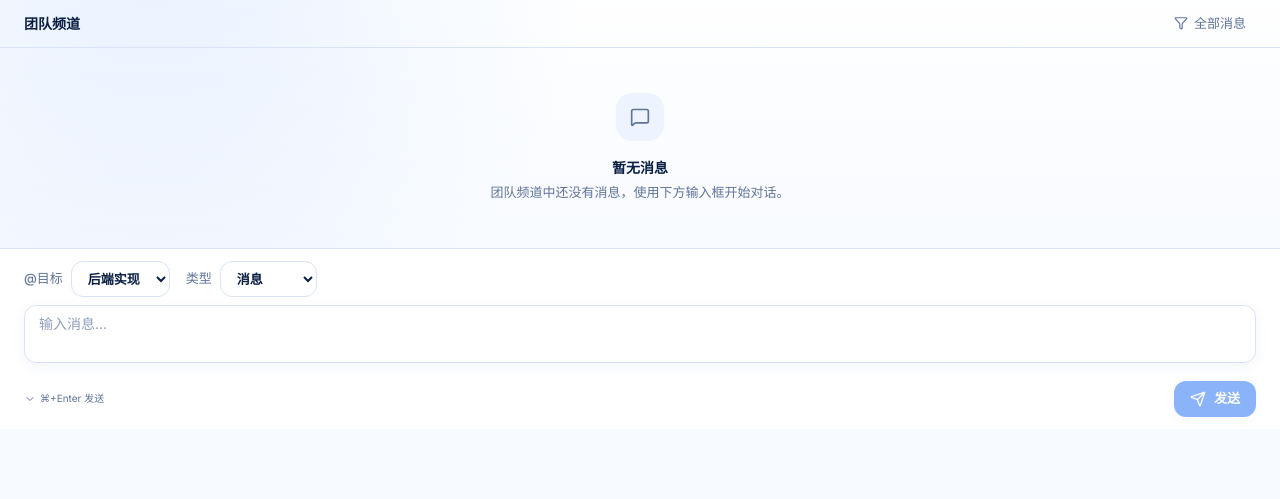
Test: TeamChannel handoff guidance › shows guidance text when handoff type is selected in composer
# Select handoff type from dropdown
Select "Handoff" in the dropdown showing "消息" at (268, 279), box [220,261,317,297]
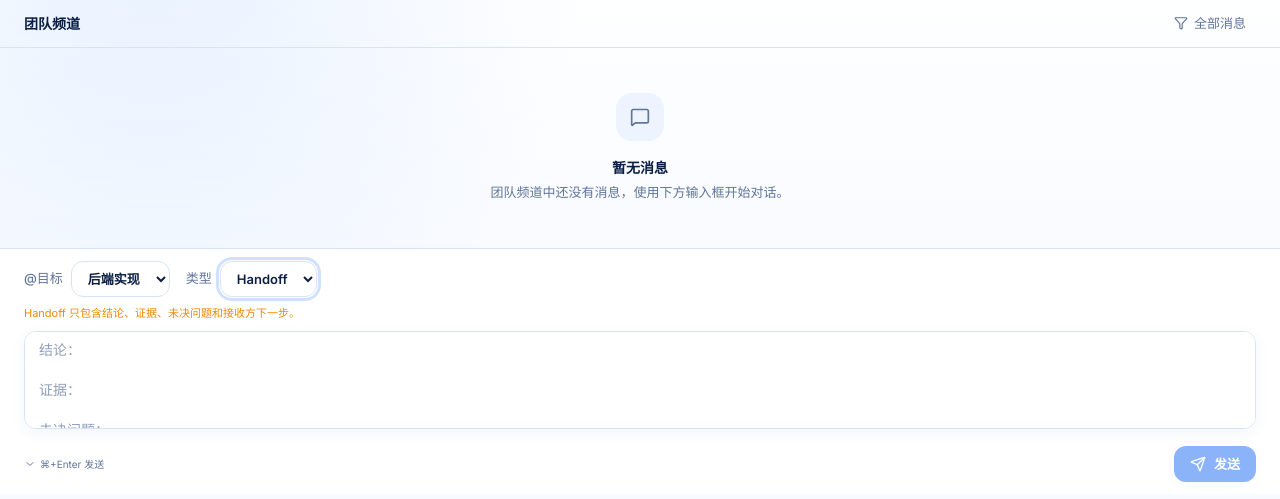
expect the text "Handoff 只包含结论、证据、未决问题和接收方下一步。" is shown: met, box [24,306,300,320]
